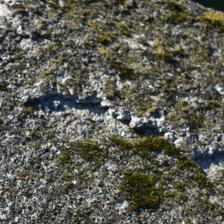Crack: (24, 90, 219, 178)
